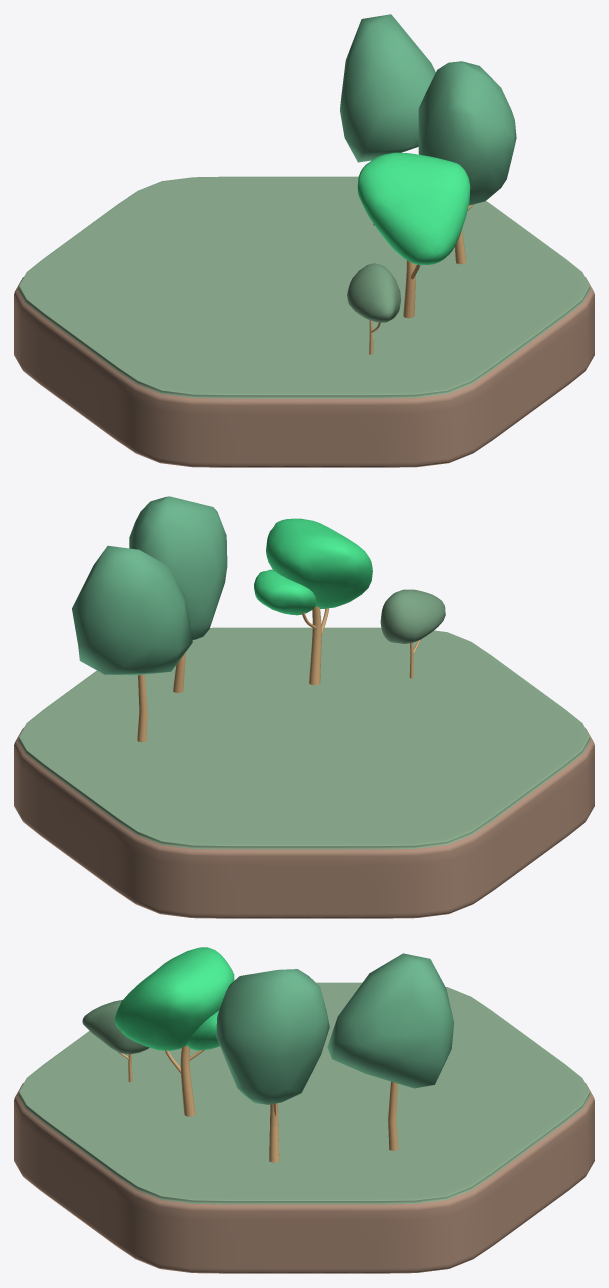
The model's file is tile4.glb.
3 views of the same model, one above another, from view 1: azimuth 30°, elevation 25°; view 2: azimuth 150°, elevation 25°; view 3: azimuth 270°, elevation 25° (orthographic).
Visible parts, largest first — view 1: Tile, GreenTree2.002, RedTree1.002, RedTree2.002, GreenTree1.004; view 2: Tile, RedTree1.002, GreenTree2.002, RedTree2.002, GreenTree1.004; view 3: Tile, RedTree1.002, RedTree2.002, GreenTree2.002, GreenTree1.004.
Part boxes in pixels (<box>): Tile: <box>14,176,594,467</box>; GreenTree2.002: <box>357,152,470,318</box>; RedTree1.002: <box>340,14,435,225</box>; RedTree2.002: <box>418,61,516,264</box>; GreenTree1.004: <box>347,263,400,354</box>; Tile: <box>14,627,594,918</box>; RedTree1.002: <box>72,545,192,742</box>; GreenTree2.002: <box>254,518,372,685</box>; RedTree2.002: <box>129,496,227,693</box>; GreenTree1.004: <box>380,589,445,678</box>; Tile: <box>14,982,594,1273</box>; RedTree1.002: <box>327,953,454,1150</box>; RedTree2.002: <box>216,969,329,1162</box>; GreenTree2.002: <box>114,947,234,1116</box>; GreenTree1.004: <box>82,1000,149,1082</box>.
Size of the model in its own units: 27.55 by 15.7 by 30.48.
